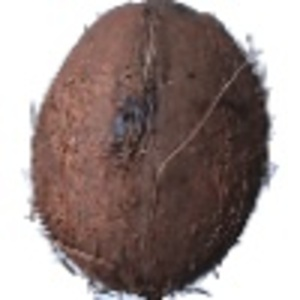coco: (30, 1, 279, 300)
